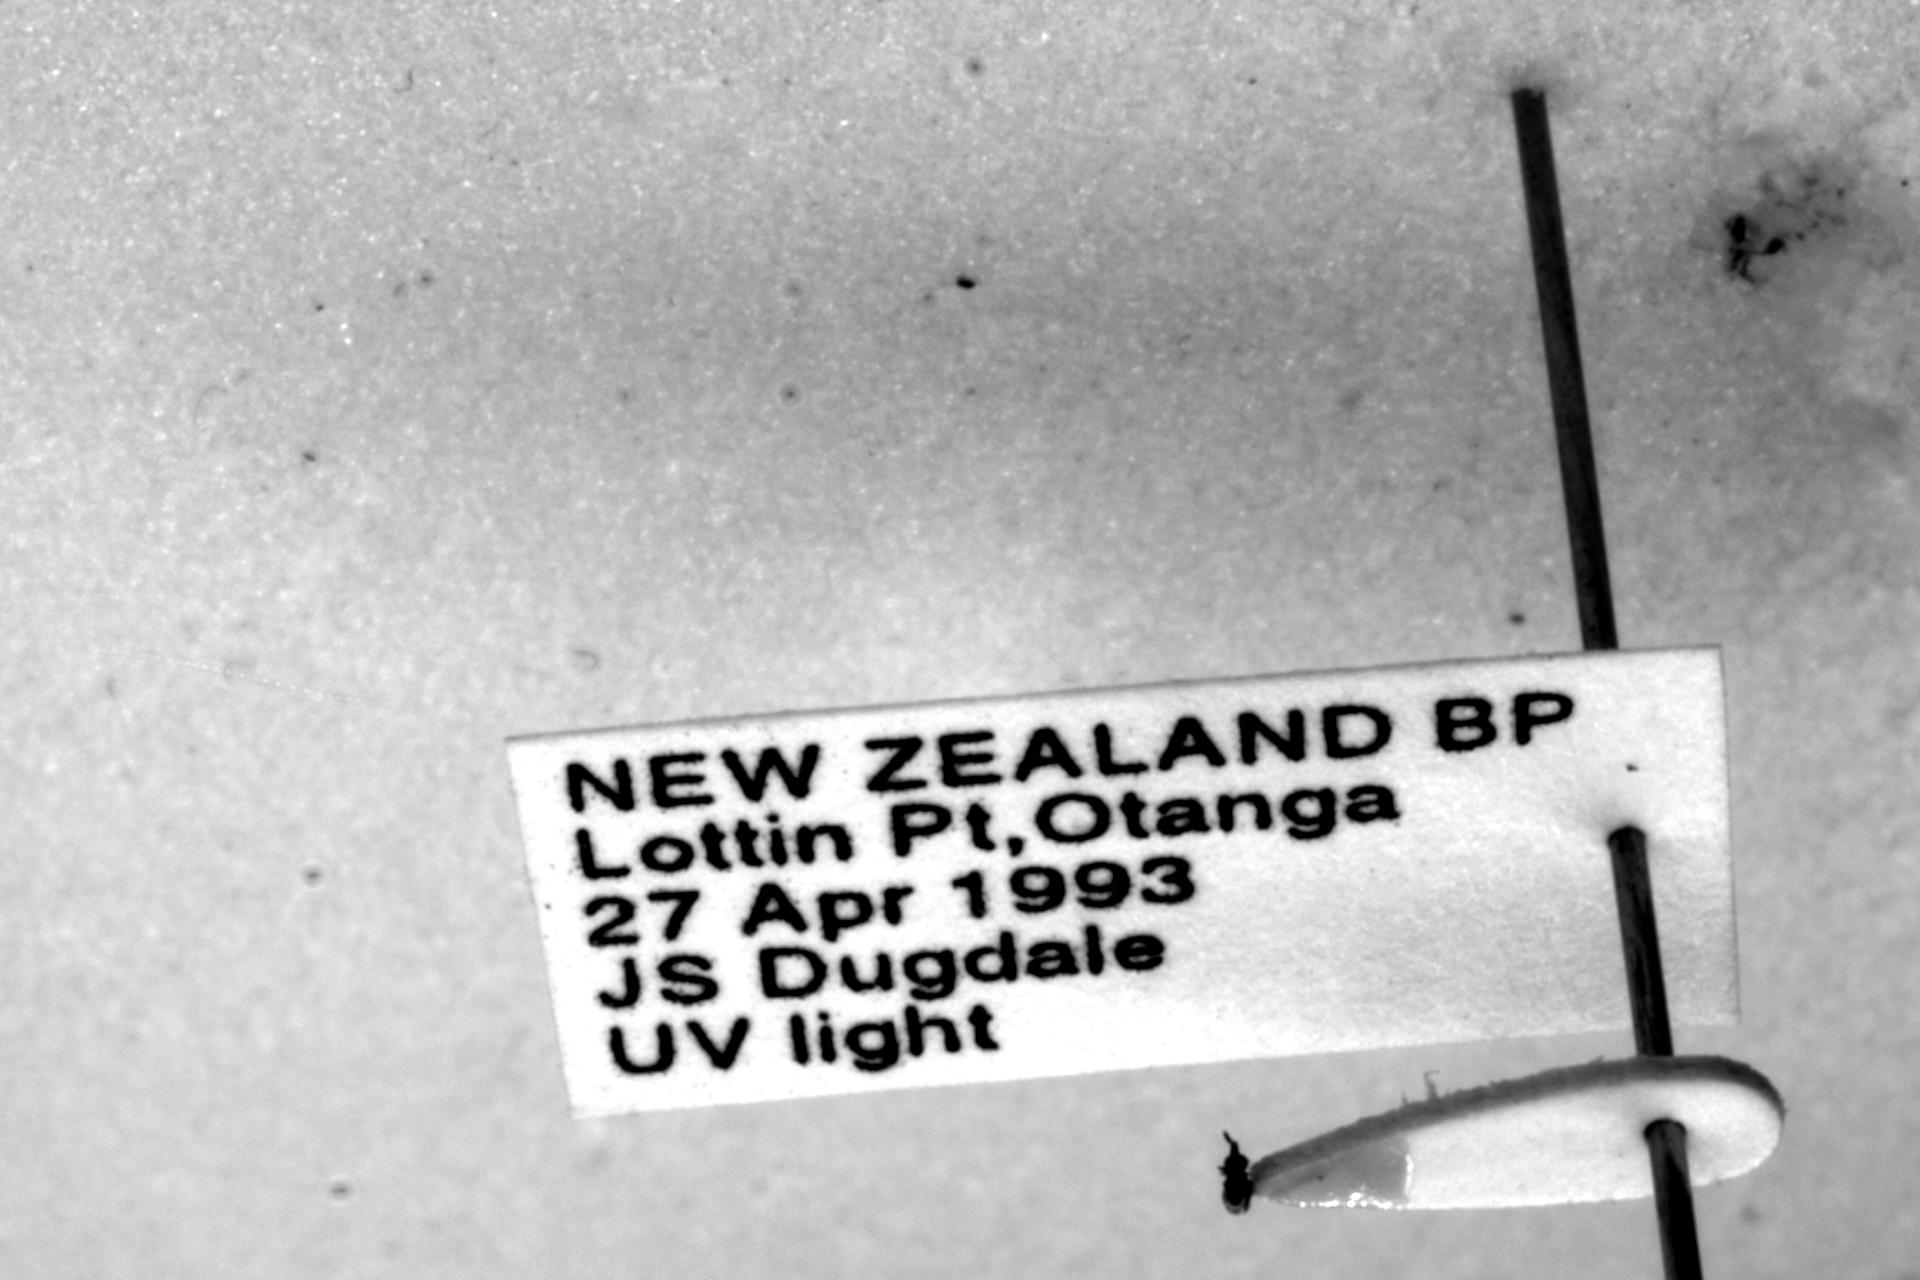typed_label: (506, 649, 1736, 1114)
